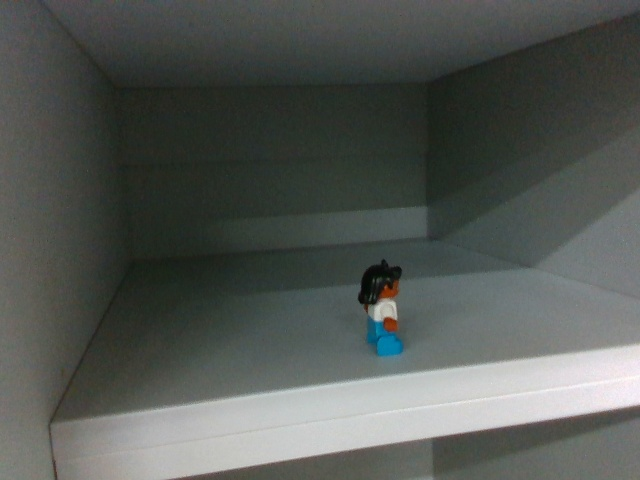people: (355, 260, 406, 359)
